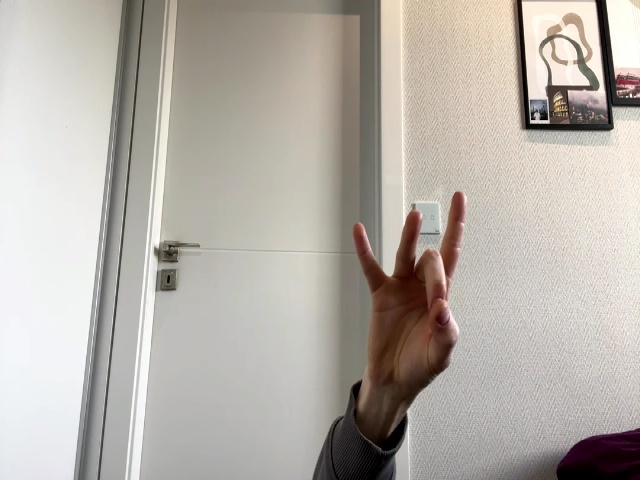G: (352, 192, 468, 391)
